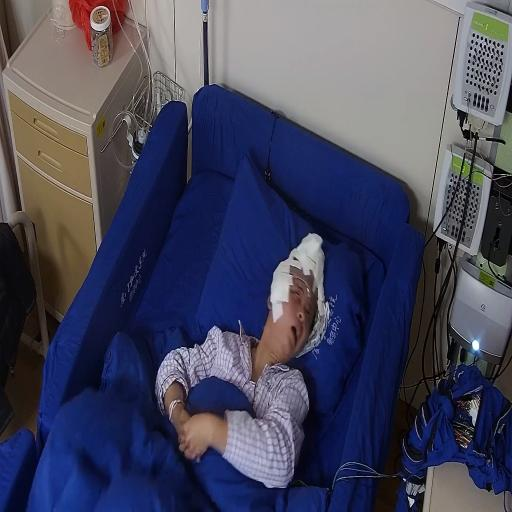Seizure: (263, 247, 324, 366)
